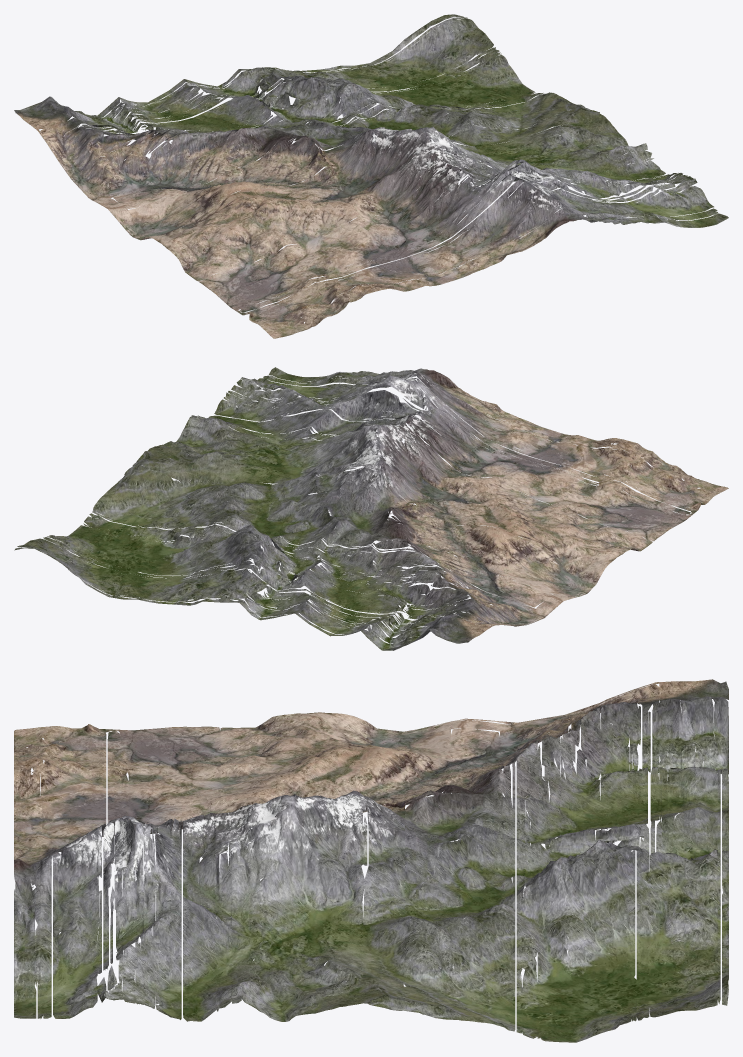
File: scene_small.gltf
The picture shows the model from 3 angles, top to bottom: view 1: azimuth 30°, elevation 25°; view 2: azimuth 150°, elevation 25°; view 3: azimuth 270°, elevation 25°; orthographic projection. The views are drawn at different scales.
Bounding box in the file's own units: 1 × 0.1735 × 1.
Materials: 1 (1 with a texture image).
